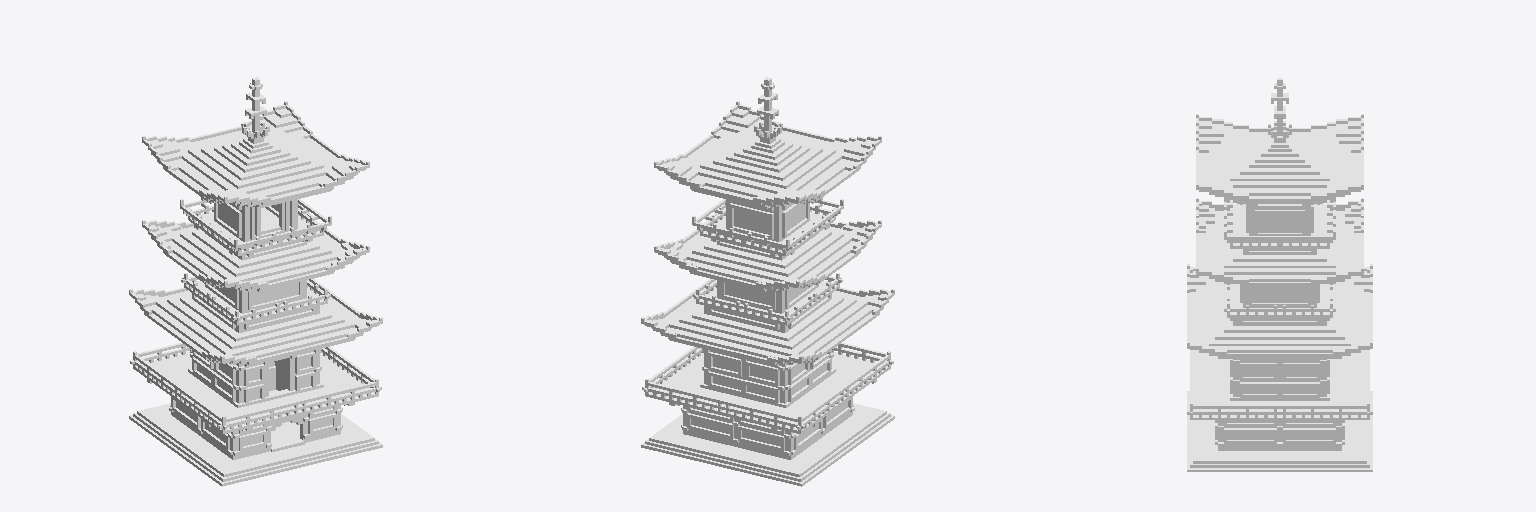
File: JapaneseTemple.obj
3 renders of one model, left to right at view 1: azimuth 30°, elevation 25°; view 2: azimuth 150°, elevation 25°; view 3: azimuth 270°, elevation 25°, orthographic.
Bounding box in the file's own units: 60 × 126 × 60.